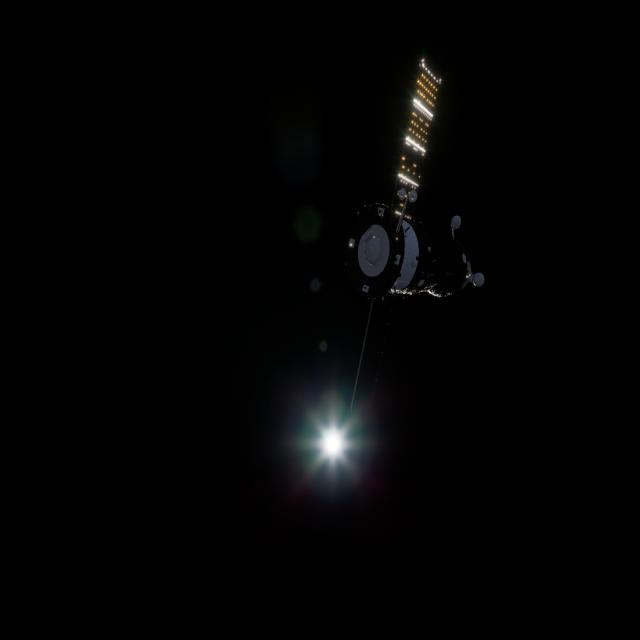Satellites revolving around earth: (341, 181, 485, 308)
